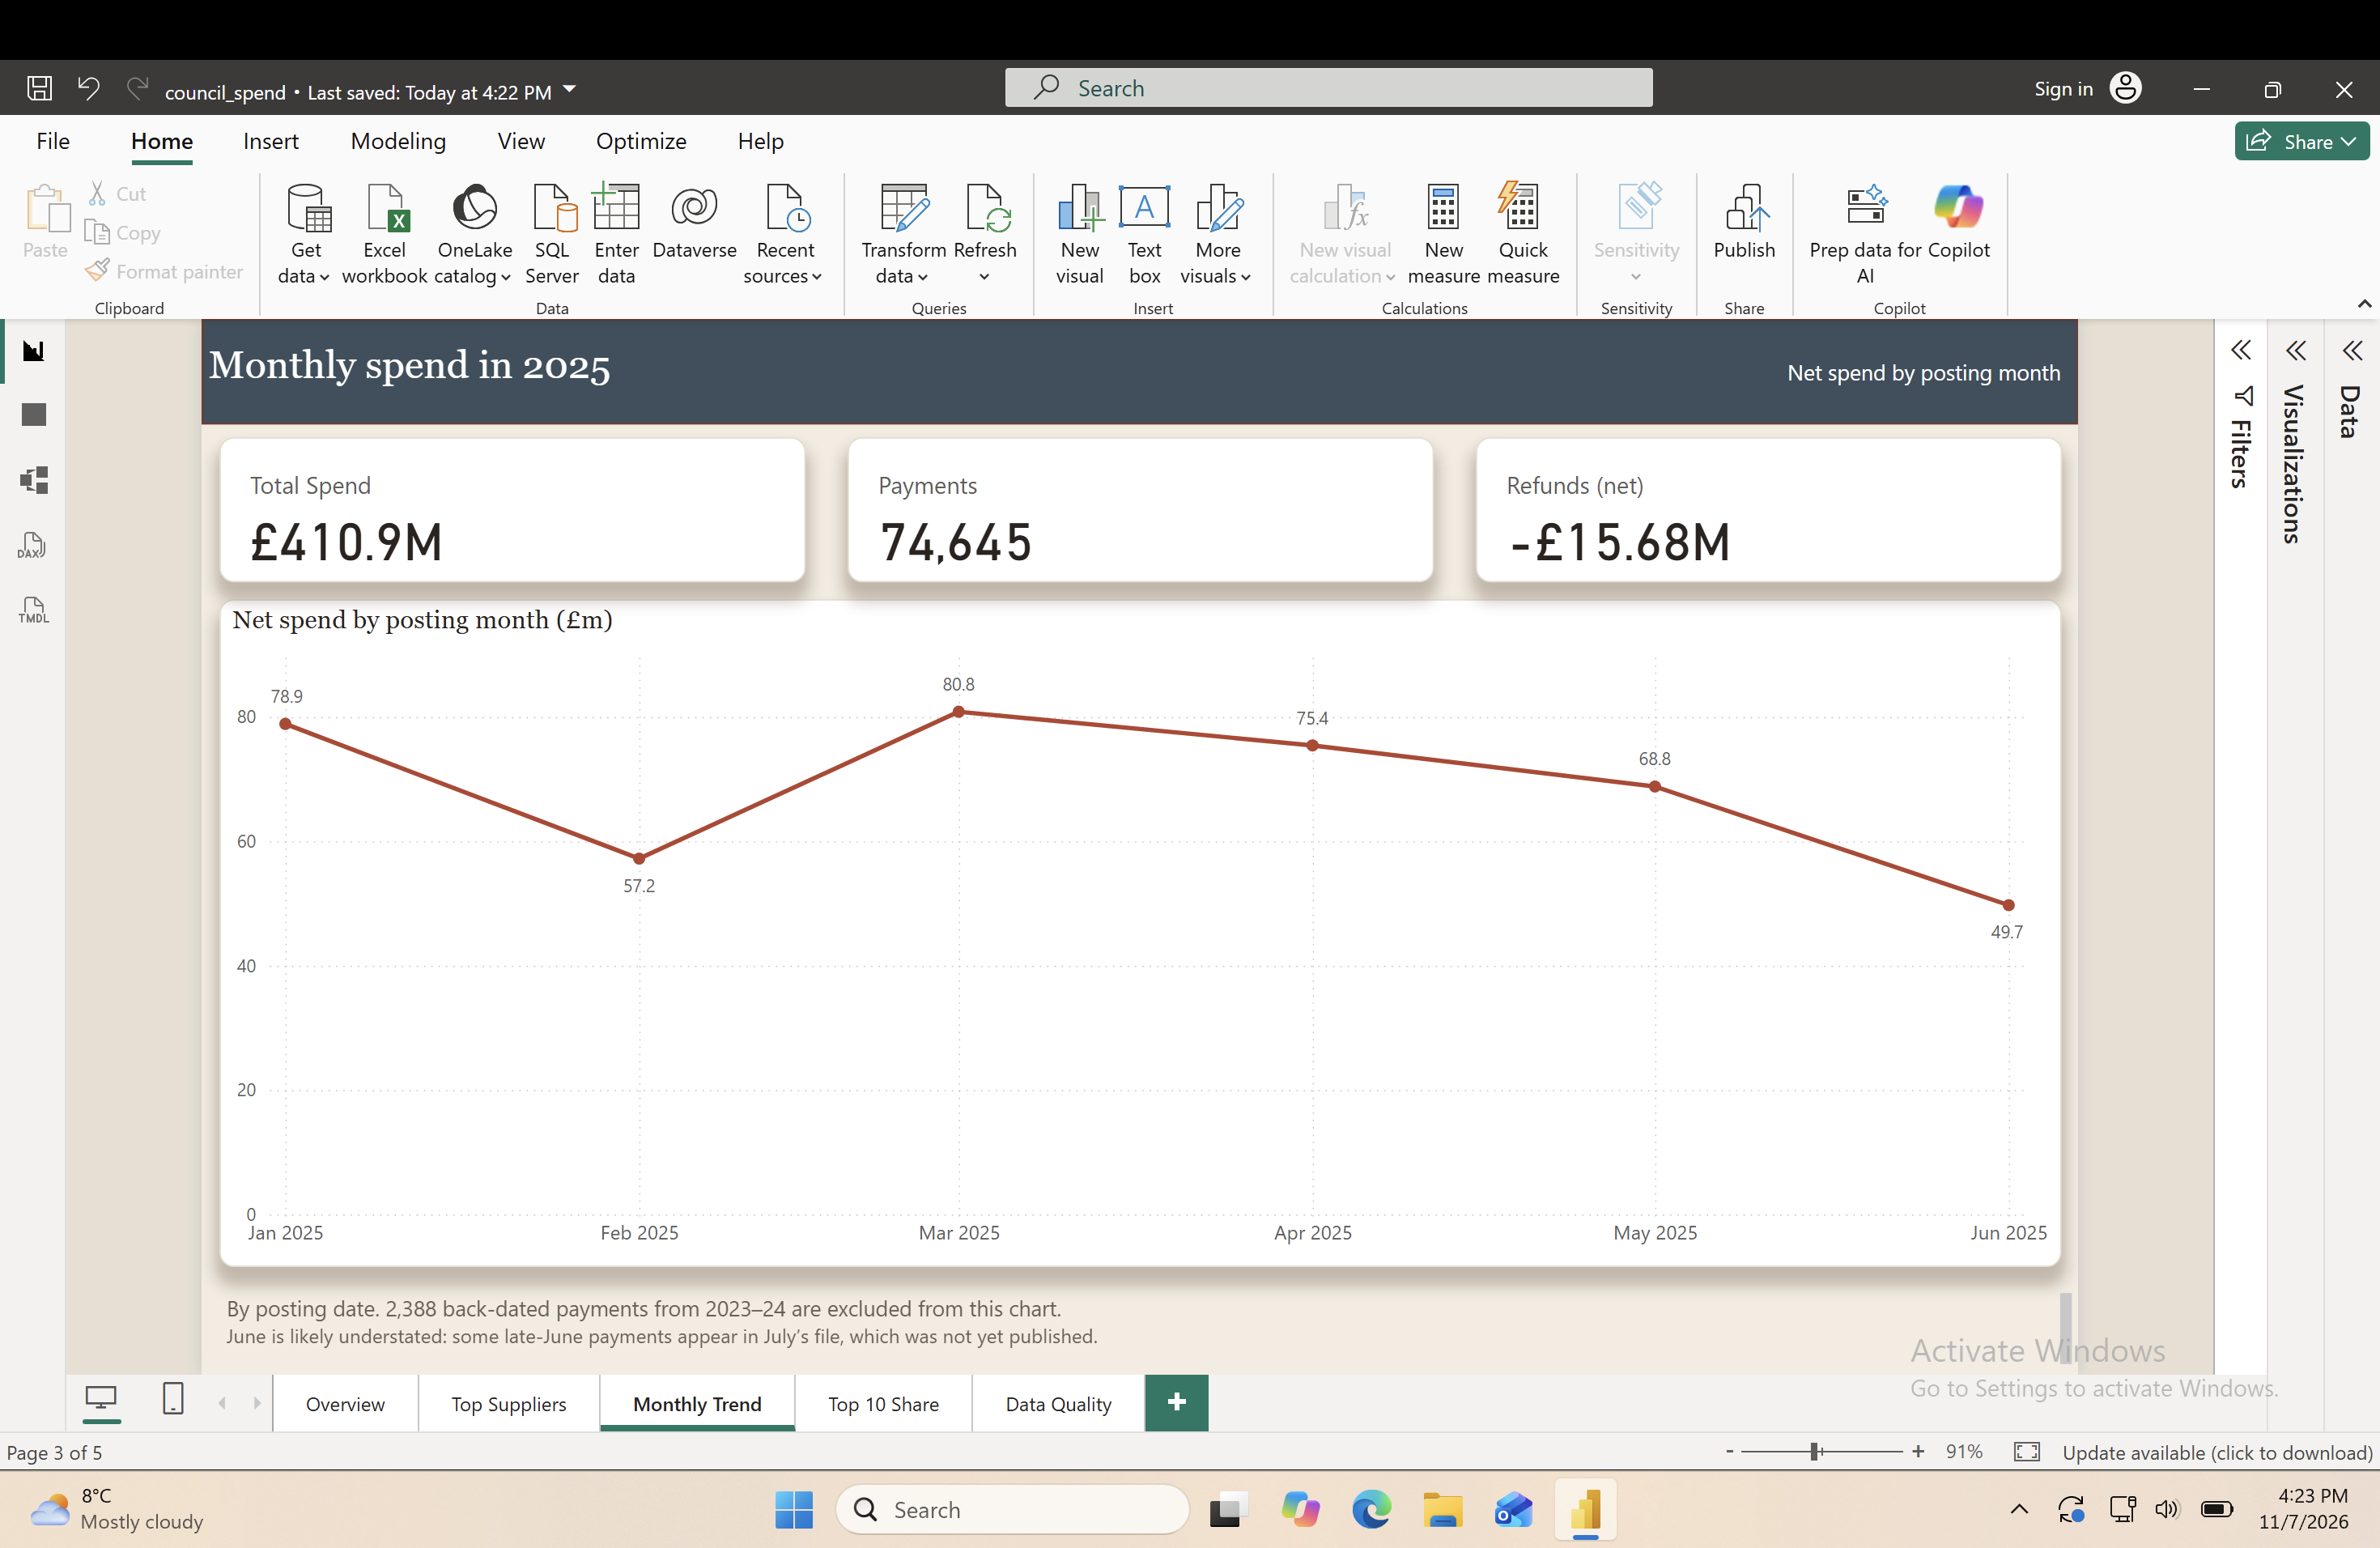

Layout of this report page (visuals, bound fields, positions):
{"tool":"powerbi","page":{"name":"Monthly Trend","canvas":[1280,720],"ordinal":2},"visuals":[{"type":"lineChart","title":"Net spend by posting month (£m)","fields":{"Category":["dim_date.year_month"],"Y":["fact_spend.Spend £m"]},"box":[12.4,190.6,1256.5,455.6],"z":0},{"type":"textbox","box":[12.6,658.9,1268.6,61.9],"z":1000},{"type":"shape","box":[0,0,1280,72],"z":2000},{"type":"textbox","box":[0,11,419.6,50.8],"z":3000},{"type":"textbox","box":[1076.7,21,203.2,42],"z":4000},{"type":"cardVisual","fields":{"Data":["fact_spend.Total Spend"]},"box":[12.4,80.5,399.8,99],"z":5000},{"type":"cardVisual","fields":{"Data":["fact_spend.Payments Label"]},"box":[440.7,80.5,400,99],"z":6000},{"type":"cardVisual","fields":{"Data":["fact_spend.Refunds"]},"box":[869,80.5,400,99],"z":7000}]}

Visuals, with their boxes on the page's 1280x720 design canvas (x1, y1, x2, y2). These are canvas units, not pixel positions in the 2380x1548 screenshot, which may show the page scaled, cropped or inside an application window:
"Net spend by posting month (£m)" lineChart: detection(12, 191, 1269, 646)
textbox: detection(13, 659, 1281, 721)
shape: detection(0, 0, 1280, 72)
textbox: detection(0, 11, 420, 62)
textbox: detection(1077, 21, 1280, 63)
cardVisual - fact_spend.Total Spend: detection(12, 80, 412, 180)
cardVisual - fact_spend.Payments Label: detection(441, 80, 841, 180)
cardVisual - fact_spend.Refunds: detection(869, 80, 1269, 180)
